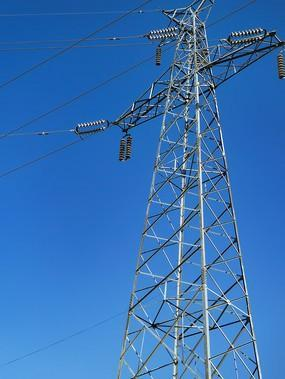power_tower: (116, 0, 272, 379)
